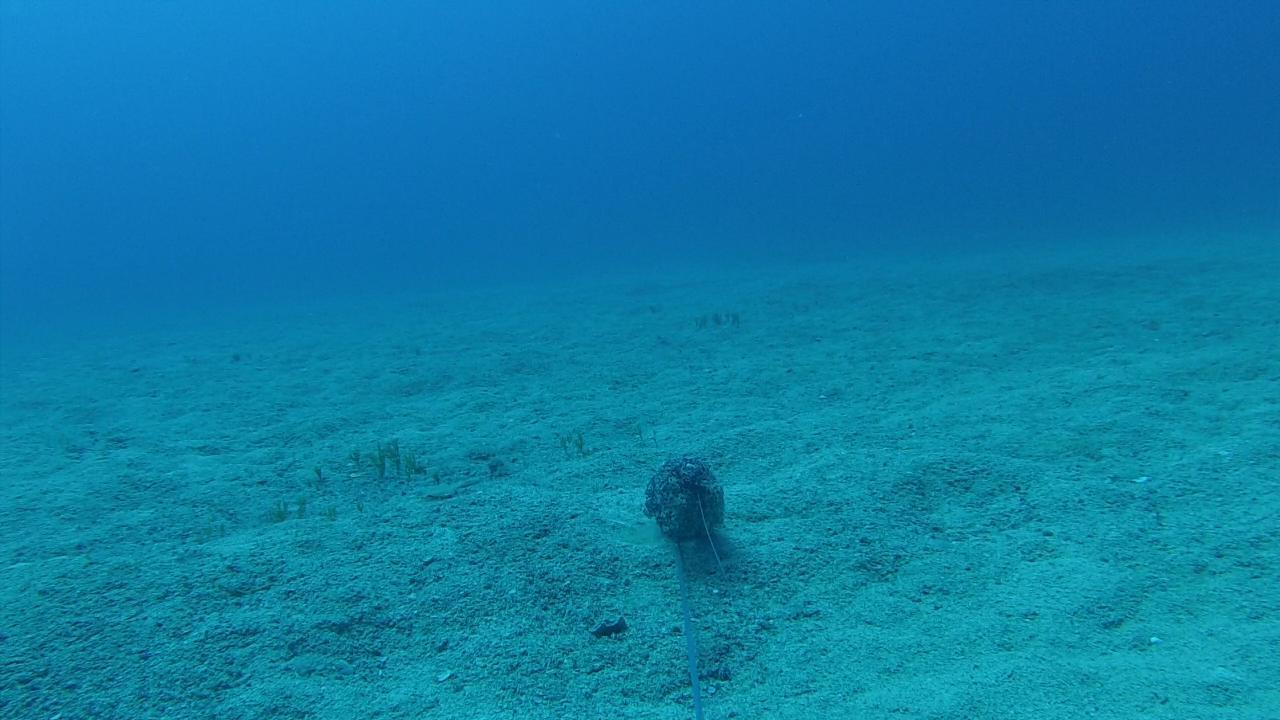bothus: (408, 470, 478, 502)
